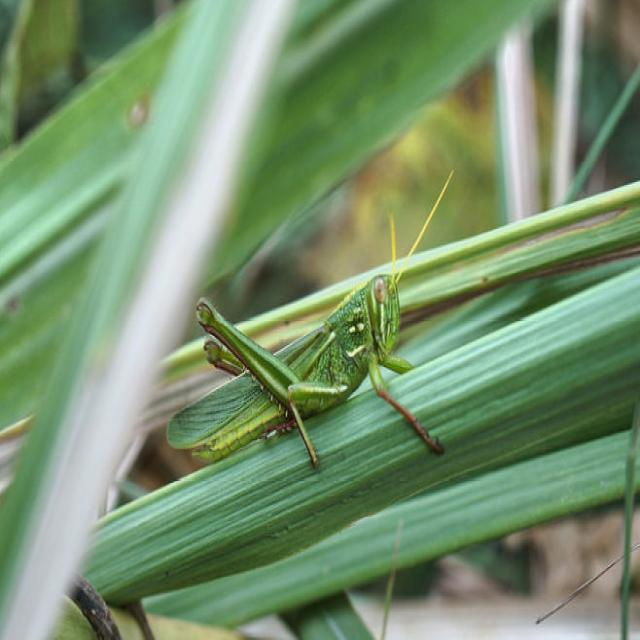ZhaMeng: (165, 214, 441, 455)
